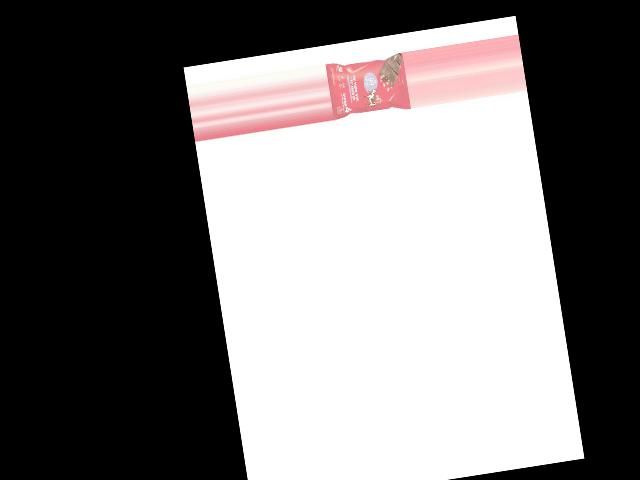chocolate: (324, 51, 410, 118)
